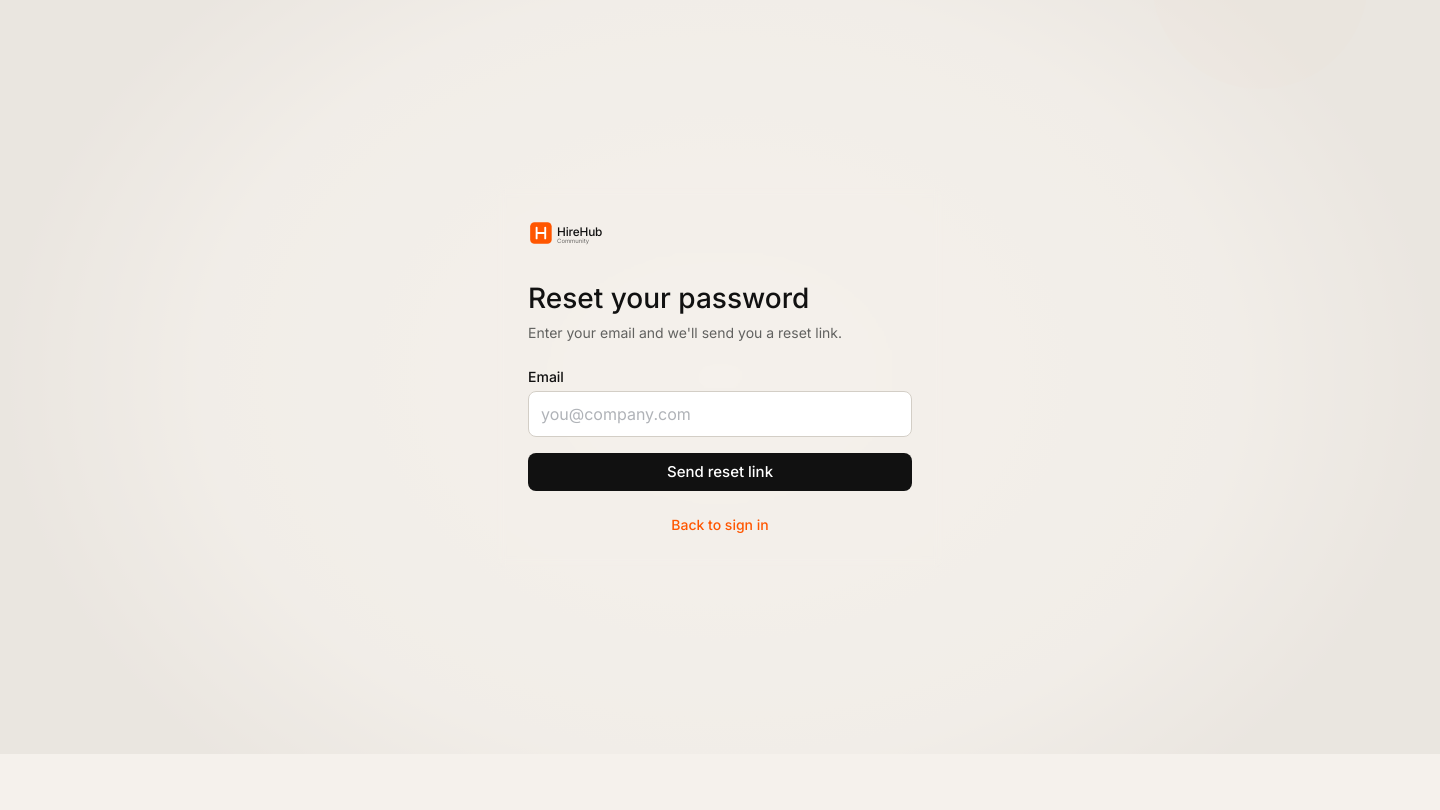
ForgotPasswordPage › shows success state after submission
Type "test@example.com" into the field labelled "Email" at (720,414), box [528,391,912,437]
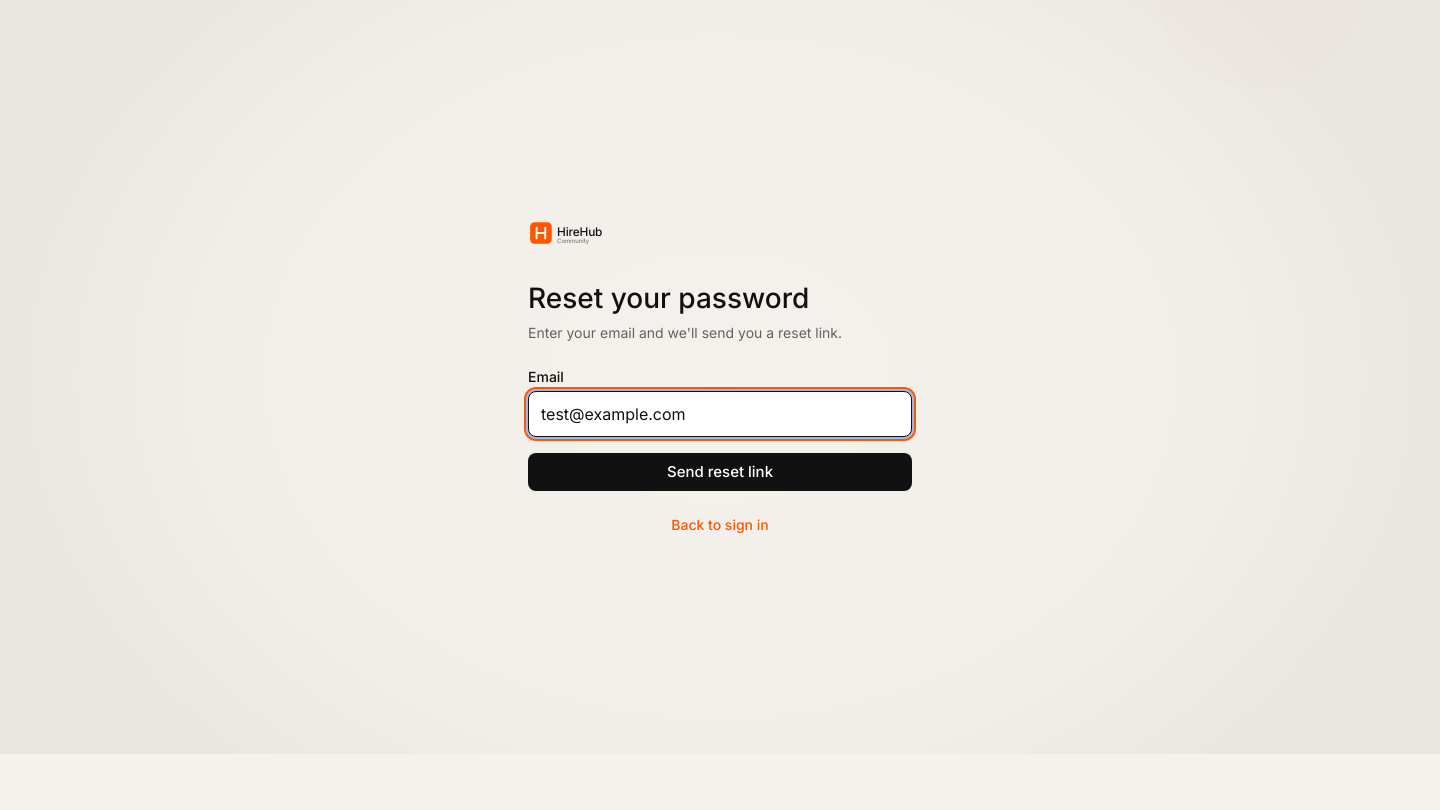
Click the button "Send reset link" at (720,472), box [528,453,912,491]
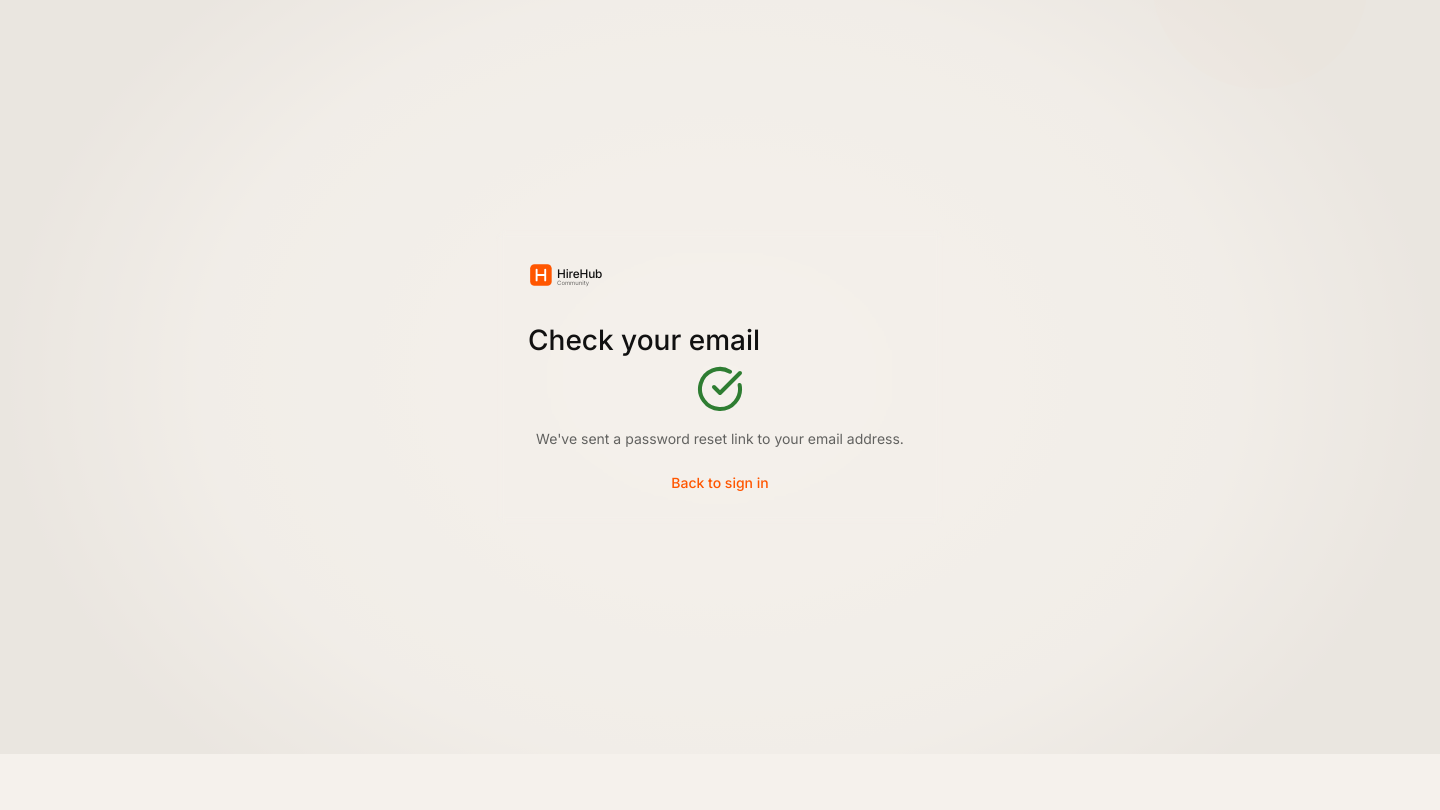
Result: the heading "Check your email" is shown at [528,323,760,357]
Result: the text "We've sent a password reset link to your email address." is shown at [528,429,912,449]
